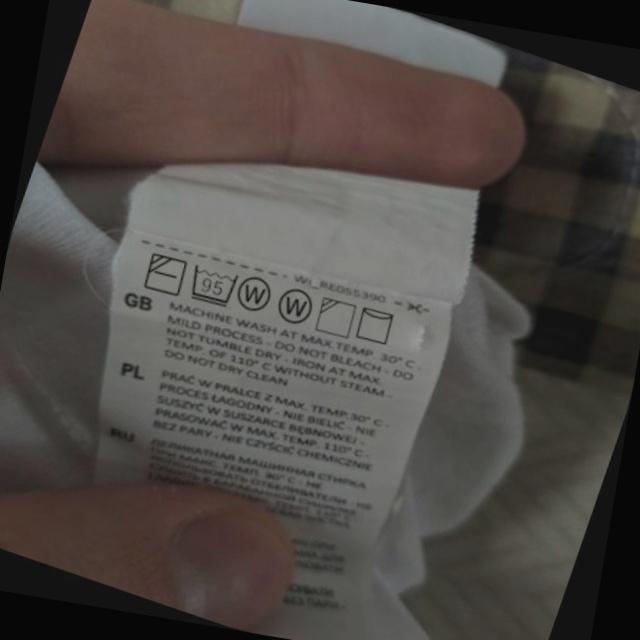95C: (181, 256, 245, 314)
dry_flat_in_shade: (137, 245, 193, 303)
line_dry: (348, 298, 404, 352)
shade_dry: (309, 290, 363, 345)
wet_clean: (269, 280, 322, 334), (230, 266, 282, 321)
